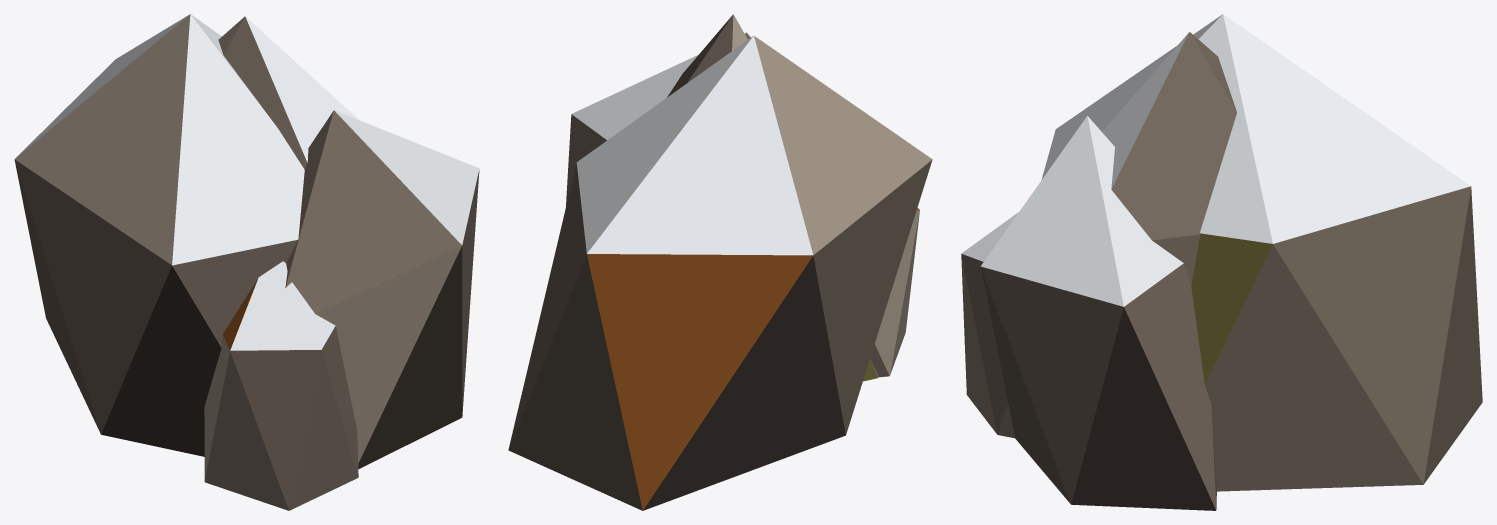
File: rs_crag_b.glb
3 views of the same model, side by side, from view 1: azimuth 30°, elevation 25°; view 2: azimuth 150°, elevation 25°; view 3: azimuth 270°, elevation 25° (orthographic). The views are drawn at different scales.
Visible parts, largest first — view 1: rs_crag_b.001; view 2: rs_crag_b.001; view 3: rs_crag_b.001.
Part boxes in pixels (left/top/right/bottom): rs_crag_b.001: left=14, top=14, right=479, bottom=510; rs_crag_b.001: left=508, top=14, right=932, bottom=510; rs_crag_b.001: left=961, top=14, right=1482, bottom=510.
Size of the model in its own units: 5.11 by 5.4 by 6.44.
